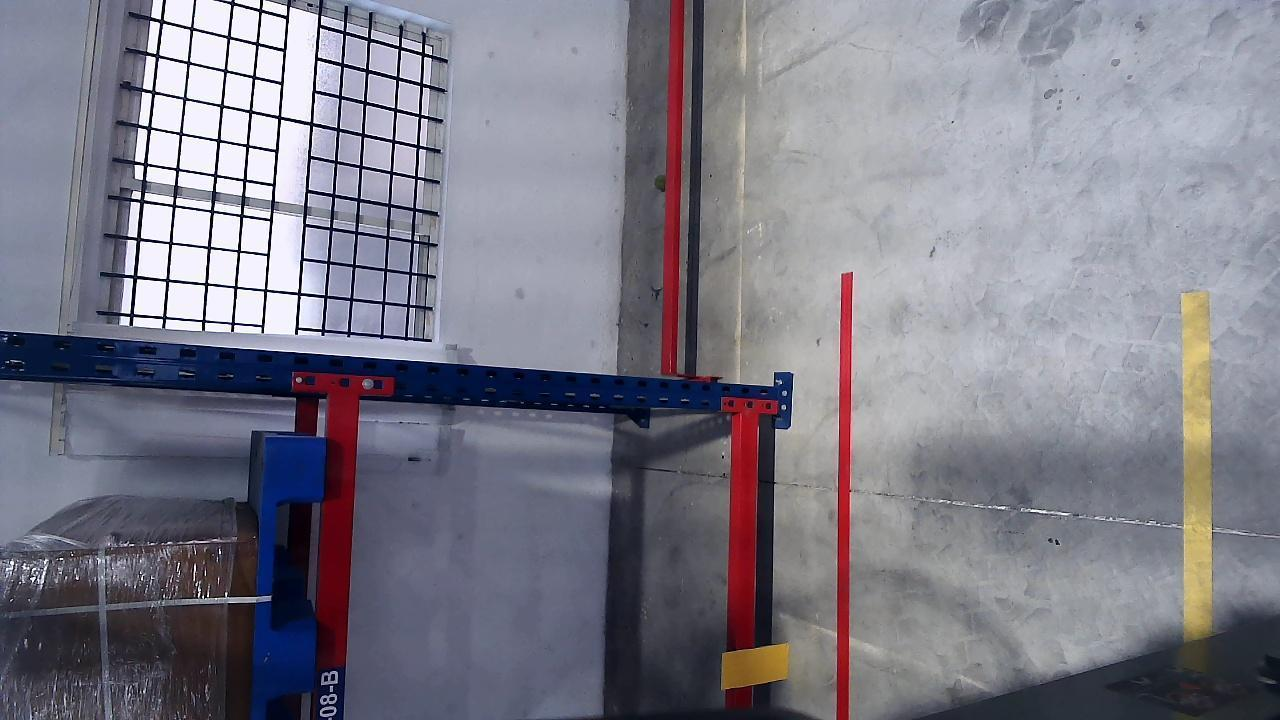red_line: (835, 274, 854, 718)
yellow_line: (1181, 298, 1213, 635)
